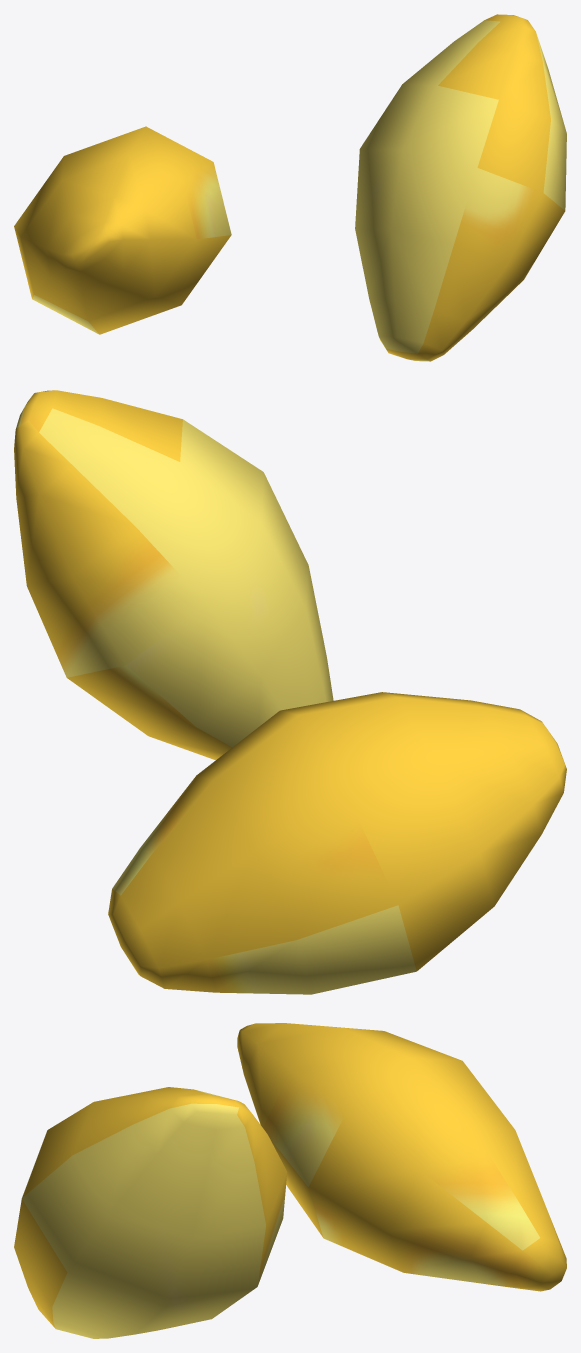
Rendered from wheatStage0.obj.
The picture shows the model from 3 angles, top to bottom: view 1: azimuth 30°, elevation 25°; view 2: azimuth 150°, elevation 25°; view 3: azimuth 270°, elevation 25°; orthographic projection. The views are drawn at different scales.
Parts seen in each view (by area): view 1: WheatStage0; view 2: WheatStage0; view 3: WheatStage0.
Boxes of the visible parts, bbox=[...] form: WheatStage0: bbox=[14, 14, 566, 361]; WheatStage0: bbox=[14, 390, 566, 994]; WheatStage0: bbox=[14, 1023, 566, 1338].
Size of the model in its own units: 0.159 by 0.1029 by 0.147.
1 material, 1 textured.
